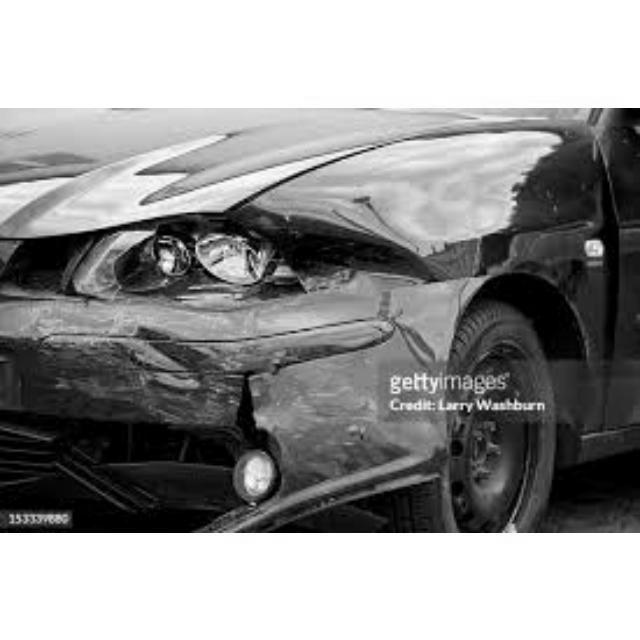Headlight-damage: (97, 205, 404, 310)
fender-dent: (284, 168, 462, 440)
front-bumper-dent: (1, 380, 378, 519)
